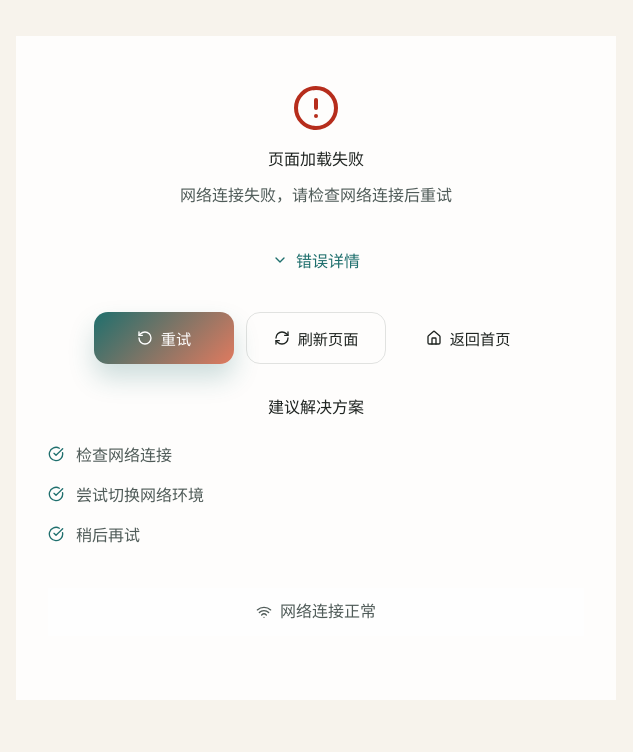
Test: ModuleLoadErrorPage › Error Details › should display module path in details
The image size is (633, 752).
Click the button with class "module-load-error-page__details-toggle".
click(316, 260)  # box [48, 240, 584, 280]
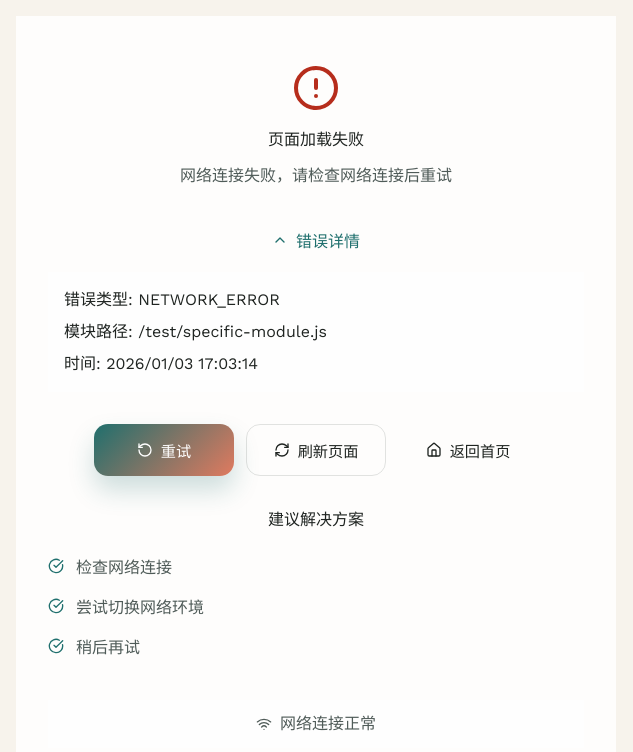
Result: the element with class "module-load-error-page__details-content" shows "/test/specific-module.js" at [133, 322, 327, 341]
